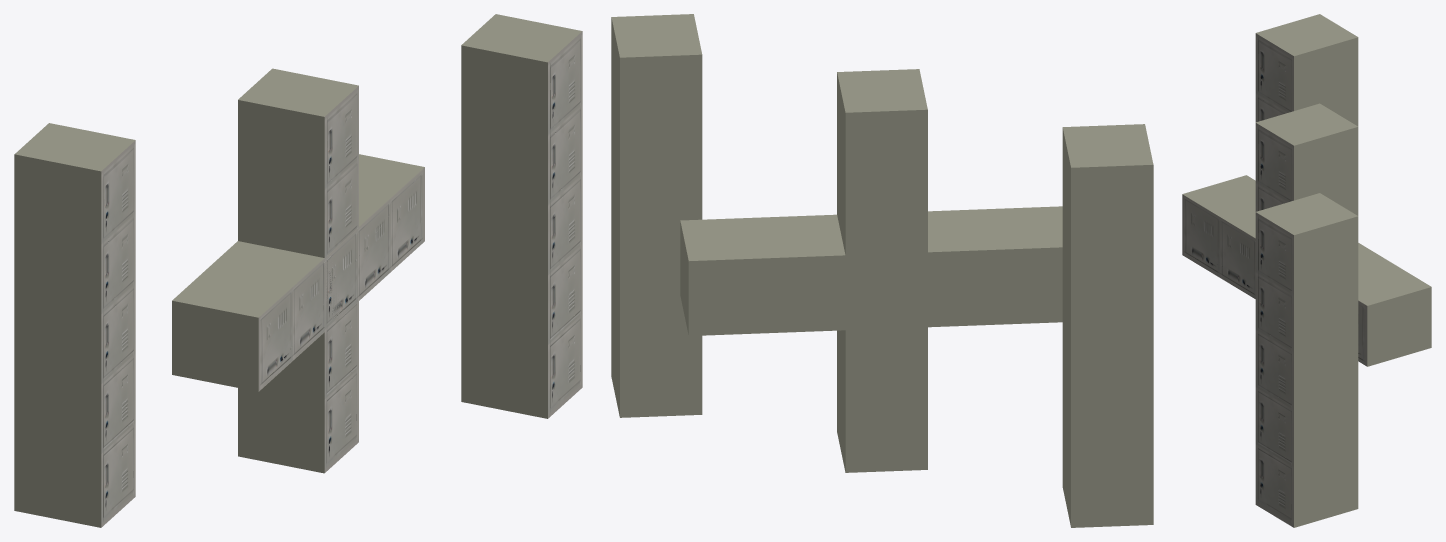
The picture shows the model from 3 angles, left to right: view 1: azimuth 30°, elevation 25°; view 2: azimuth 150°, elevation 25°; view 3: azimuth 270°, elevation 25°; orthographic projection. The views are drawn at different scales.
Parts seen in each view (by area): view 1: 立方体.003, 立方体.001, 立方体.002; view 2: 立方体.003, 立方体.001, 立方体.002; view 3: 立方体.002, 立方体.003, 立方体.001.
Part boxes in pixels (x1,y1,x2,y2): 立方体.003: [172, 68, 424, 473]; 立方体.001: [14, 123, 135, 527]; 立方体.002: [461, 14, 582, 418]; 立方体.003: [680, 69, 1062, 472]; 立方体.001: [1062, 124, 1153, 527]; 立方体.002: [611, 14, 702, 417]; 立方体.002: [1255, 193, 1358, 527]; 立方体.003: [1182, 103, 1431, 366]; 立方体.001: [1255, 14, 1358, 126].
Bounding box in the file's own units: 3 × 1.85 × 1.43.
8 materials, 4 textured.
